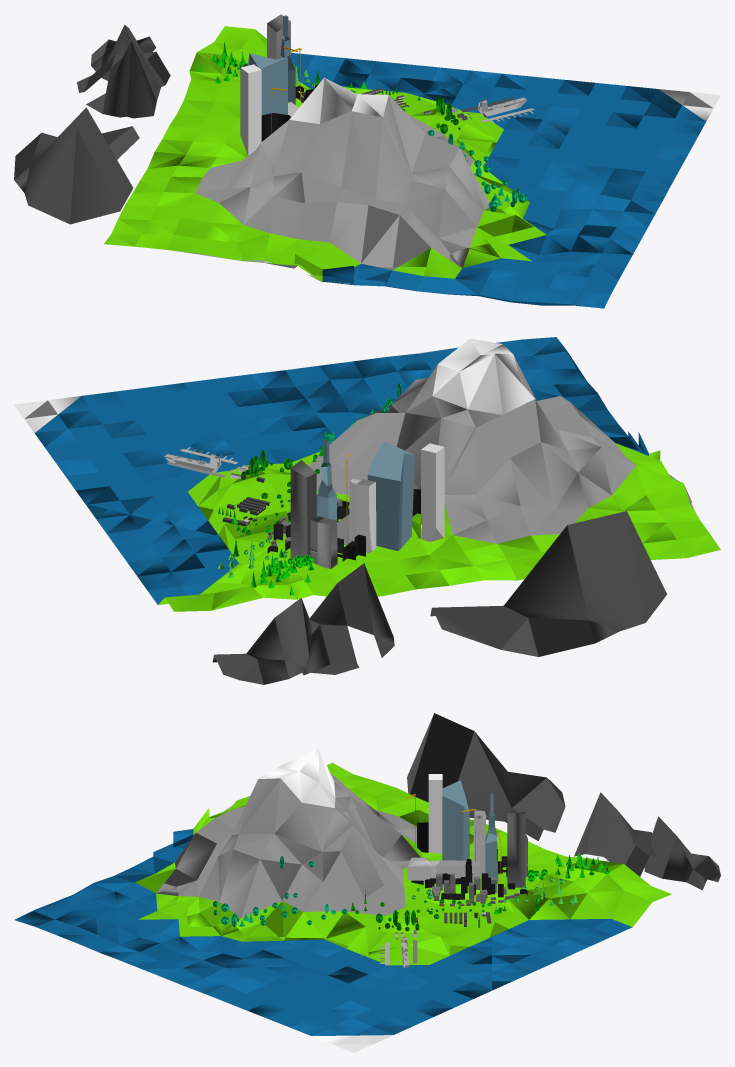
The picture shows the model from 3 angles, top to bottom: view 1: azimuth 30°, elevation 25°; view 2: azimuth 150°, elevation 25°; view 3: azimuth 270°, elevation 25°; orthographic projection. The views are drawn at different scales.
Visible parts, largest first — view 1: sol_et_iles, buildings, sapins_1, port_1, black_building; view 2: sol_et_iles, buildings, sapins_1, black_building, port_1, entrepot; view 3: sol_et_iles, buildings, sapins_1, black_building, Cube_1, port_1.
Part boxes in pixels (x1=…): sol_et_iles: x1=14, y1=24, x2=720, y2=308; buildings: x1=240, y1=14, x2=298, y2=154; sapins_1: x1=198, y1=42, x2=526, y2=211; port_1: x1=446, y1=97, x2=534, y2=122; black_building: x1=261, y1=84, x2=318, y2=141; sol_et_iles: x1=14, y1=337, x2=720, y2=684; buildings: x1=290, y1=439, x2=444, y2=568; sapins_1: x1=218, y1=383, x2=401, y2=595; black_building: x1=267, y1=489, x2=420, y2=561; port_1: x1=164, y1=447, x2=249, y2=478; entrepot: x1=222, y1=477, x2=270, y2=526; sol_et_iles: x1=14, y1=713, x2=720, y2=1052; buildings: x1=407, y1=774, x2=527, y2=887; sapins_1: x1=213, y1=851, x2=609, y2=931; black_building: x1=411, y1=822, x2=527, y2=899; Cube_1: x1=432, y1=873, x2=506, y2=901; port_1: x1=379, y1=930, x2=417, y2=967.
Bounding box in the file's own units: 1414 × 308 × 1509.
1 material, 1 textured.
